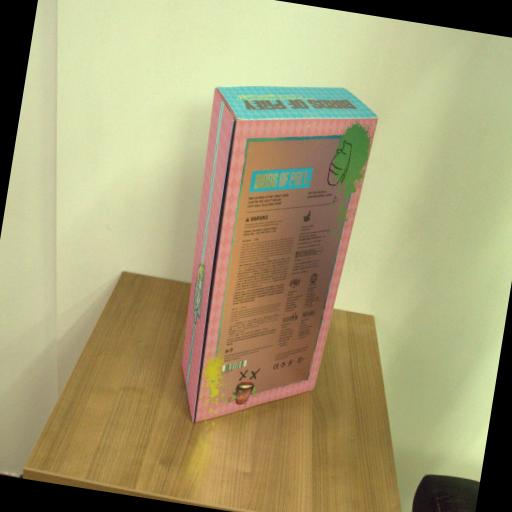Harley: (162, 65, 382, 444)
